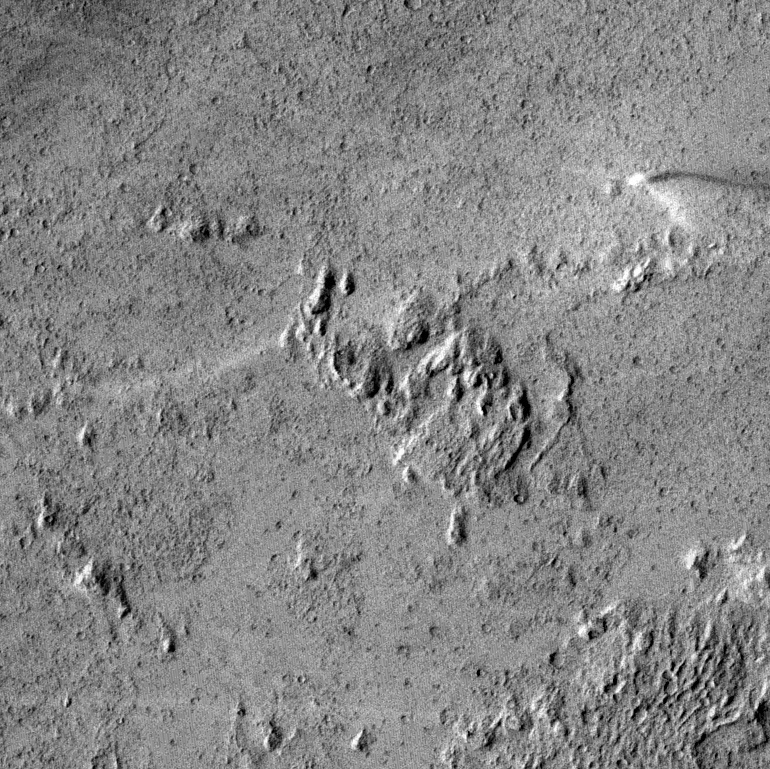dust_devil: (622, 164, 770, 227)
